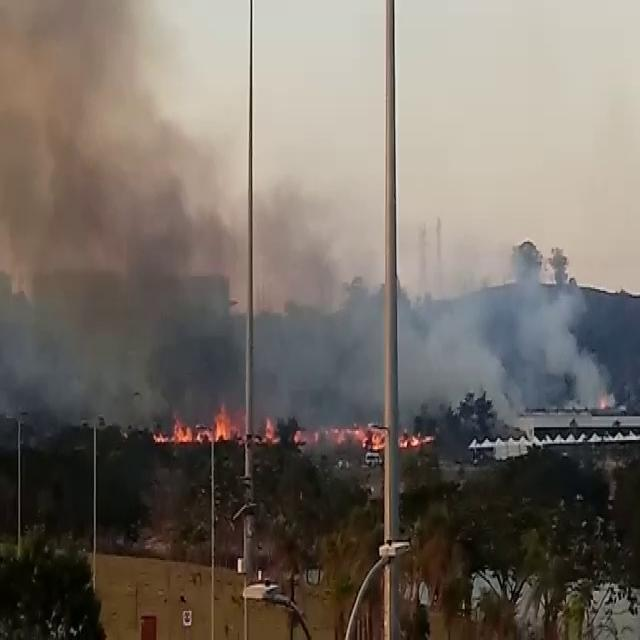Fire: (172, 408, 234, 450)
Smoke: (18, 76, 169, 316), (397, 314, 532, 384), (264, 314, 374, 390)
